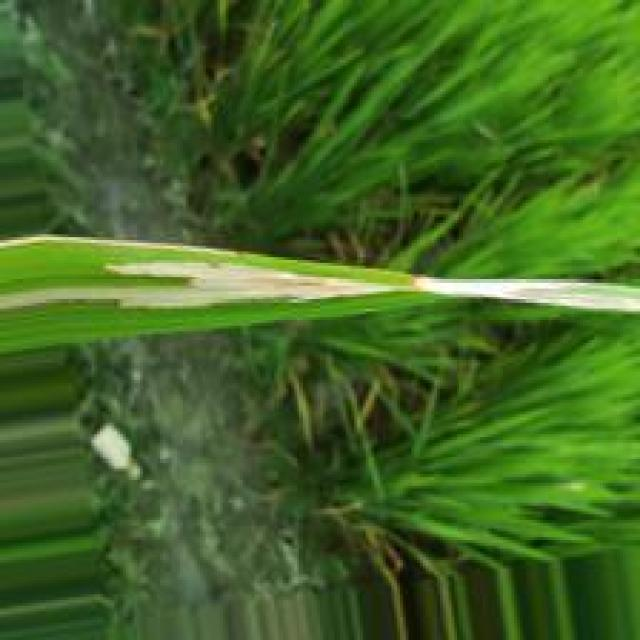Rice_Hispa: (0, 256, 399, 313), (413, 275, 640, 312)
